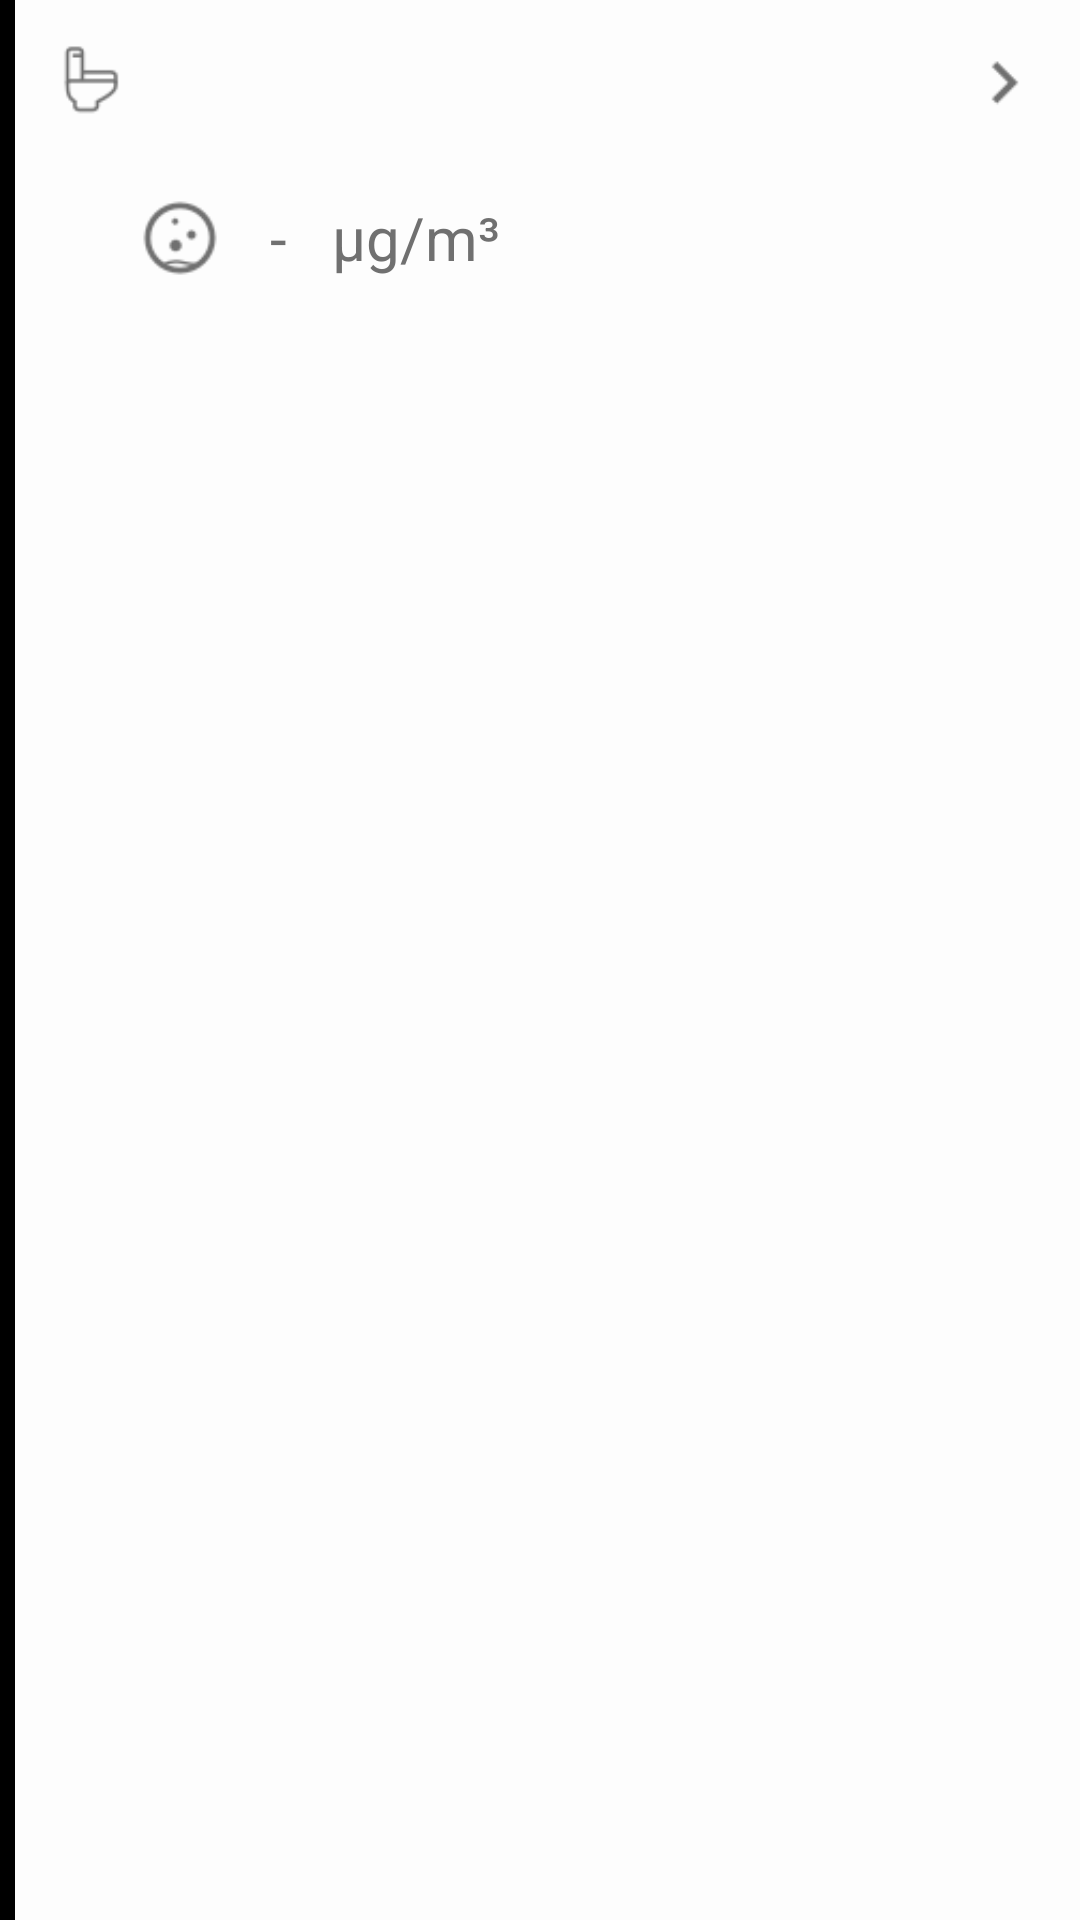

Where icons sit on this 1080 × 1920 app screen, as {"left": x1, "top": y1, "right": x2, "bottom": y2}:
bathroom: {"left": 64, "top": 46, "right": 119, "bottom": 113}
right arrow: {"left": 992, "top": 61, "right": 1018, "bottom": 104}
